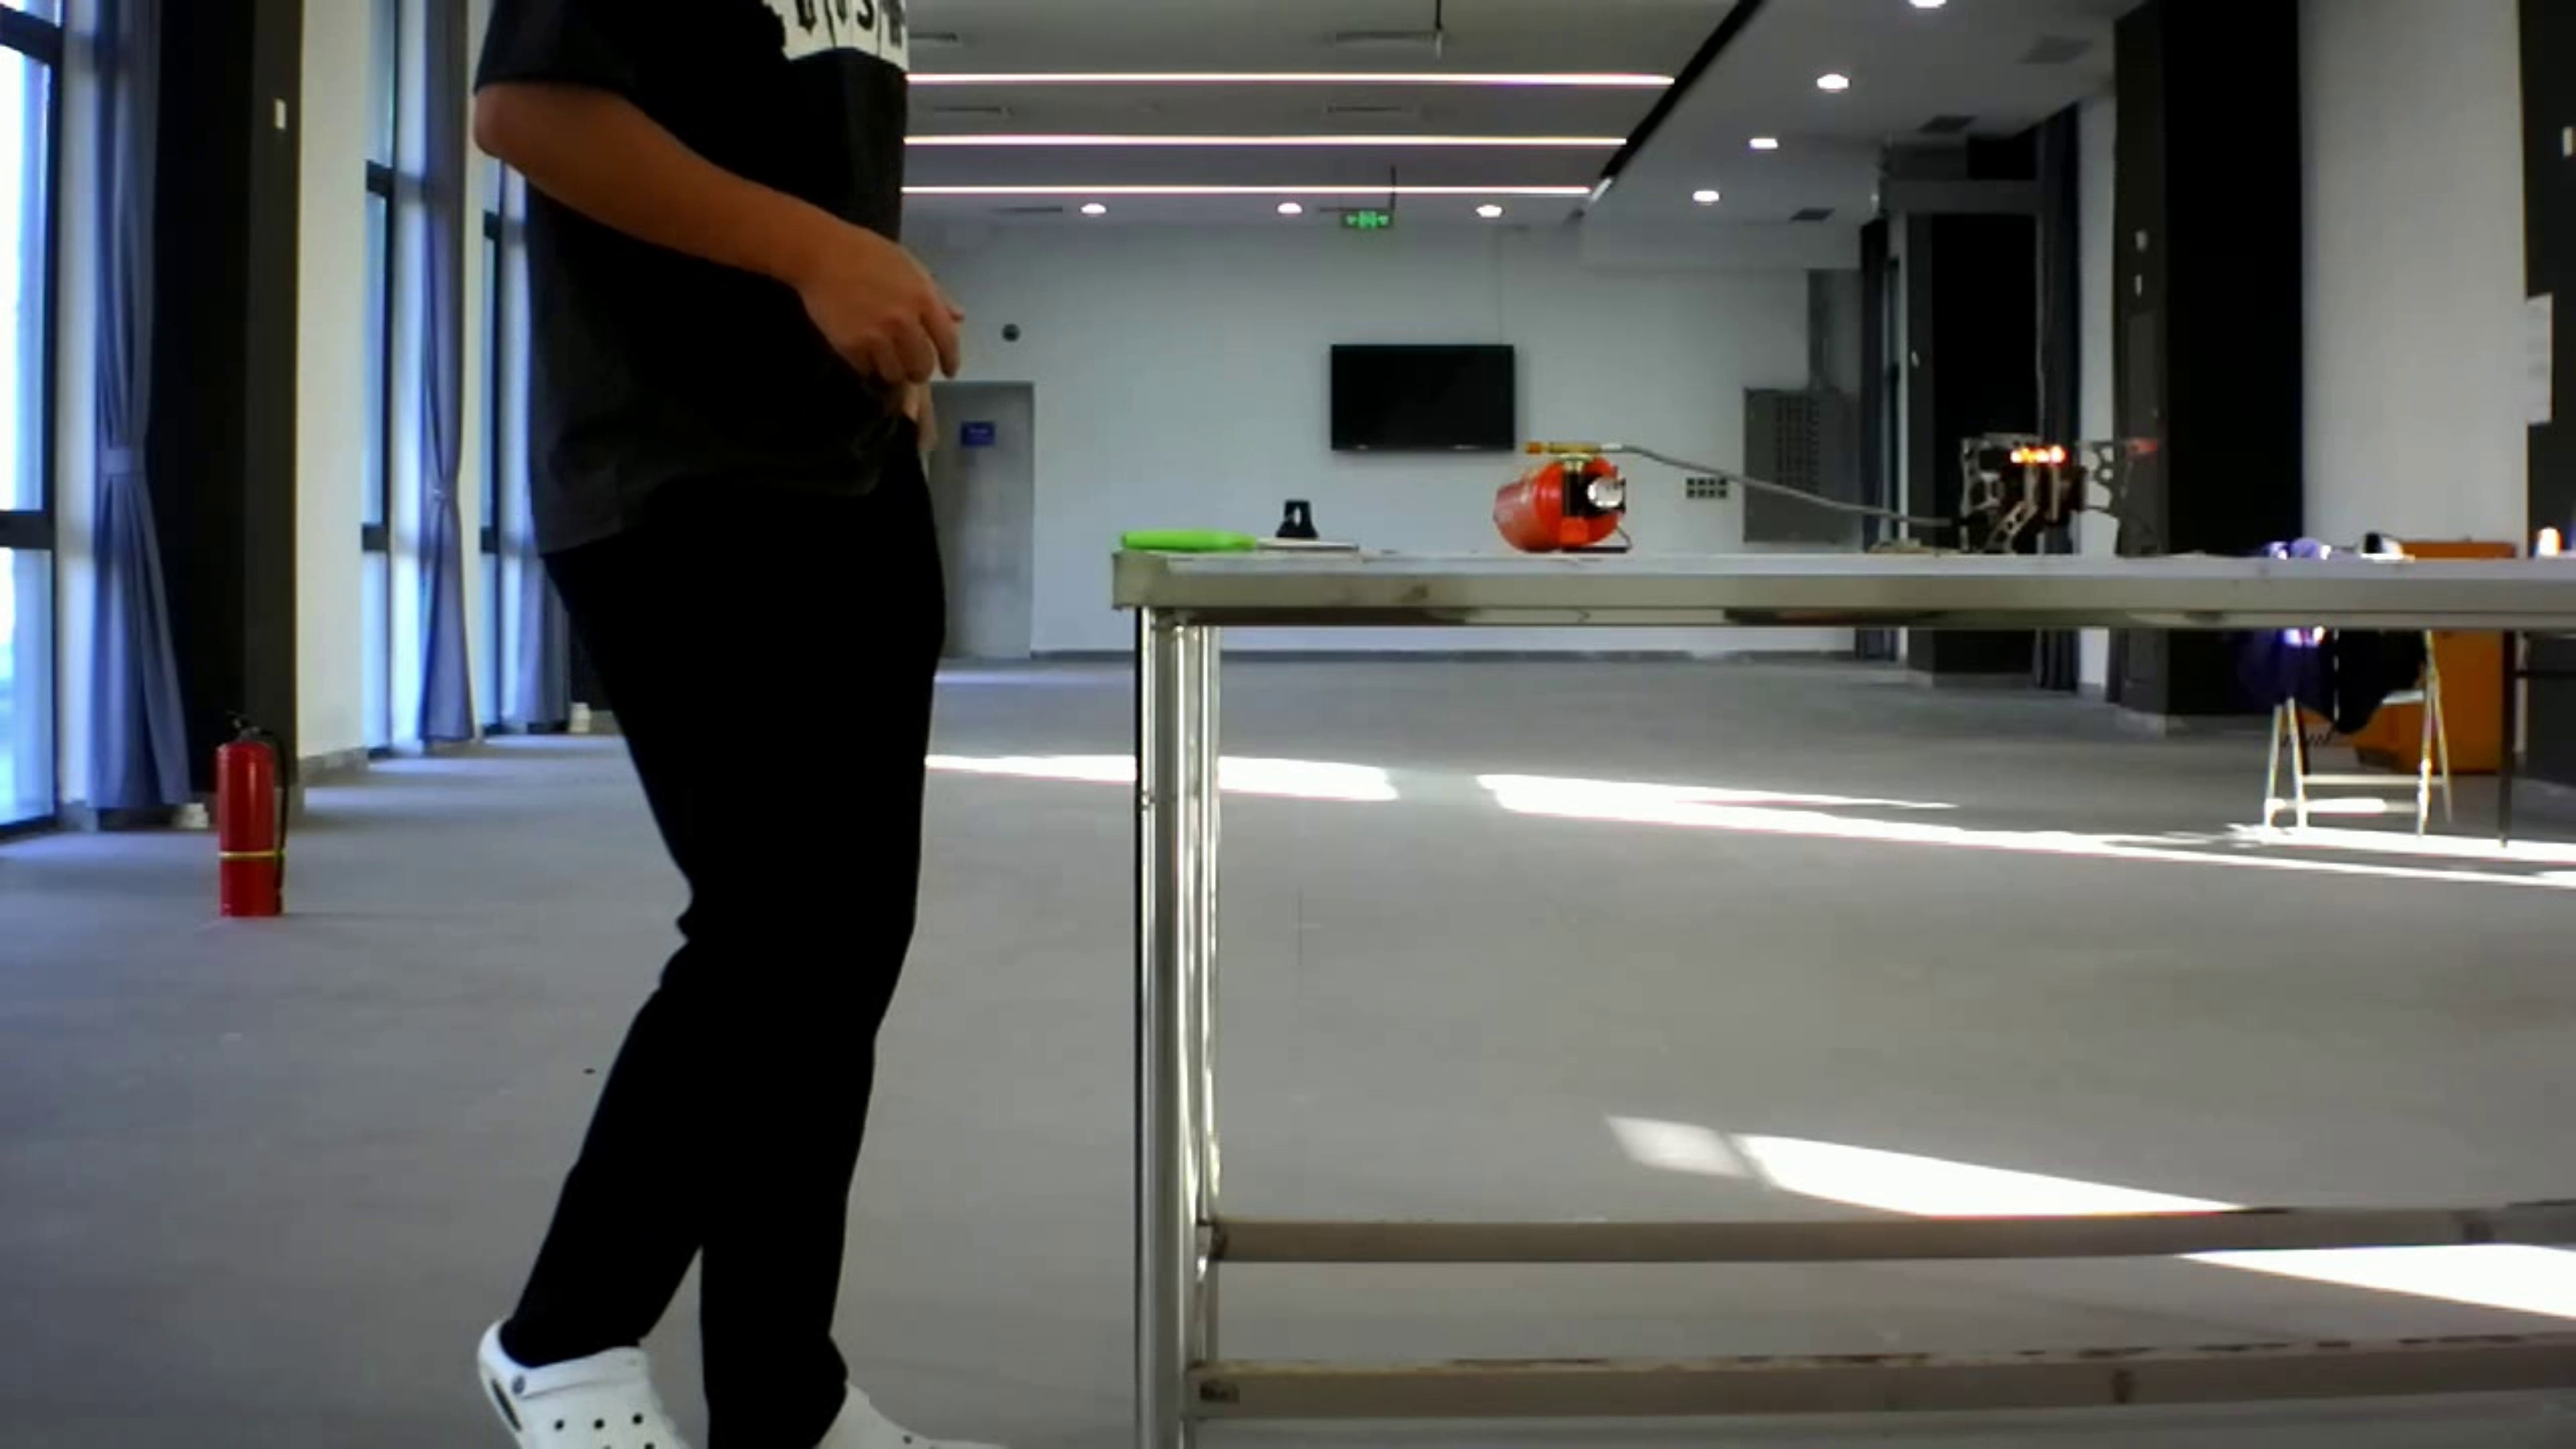Fire: (2001, 428, 2086, 481)
